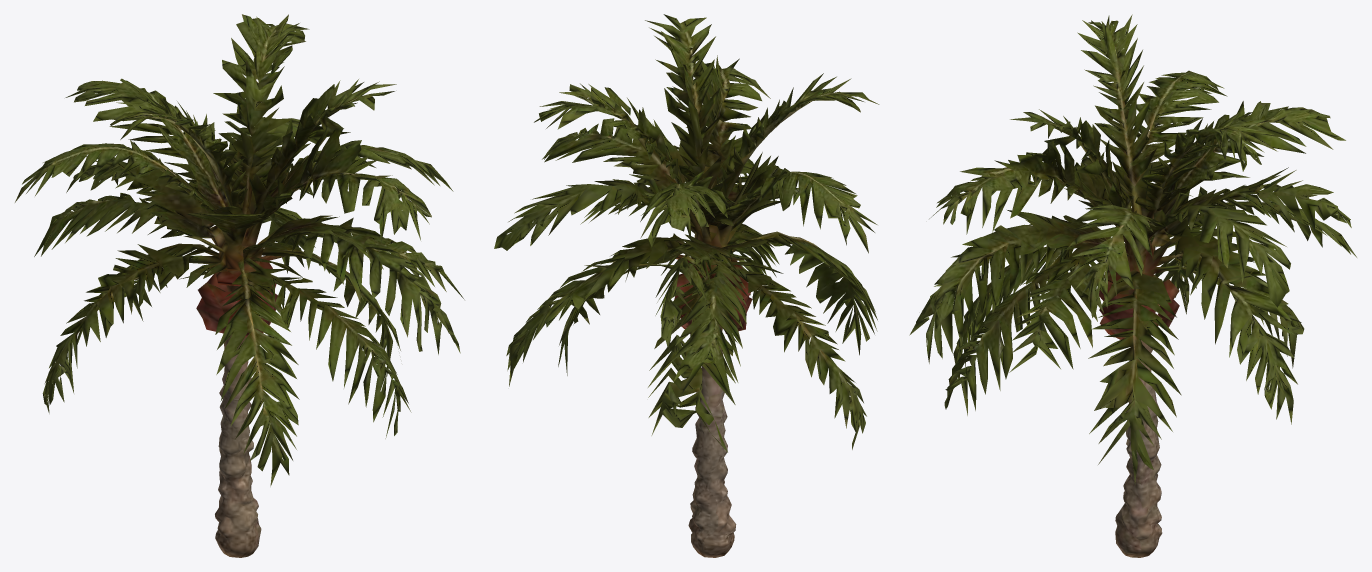
File: tree_palm_real-Cda6Ew8b.glb
3 renders of one model, left to right at view 1: azimuth 30°, elevation 25°; view 2: azimuth 150°, elevation 25°; view 3: azimuth 270°, elevation 25°, orthographic.
Visible parts, largest first — view 1: tripo_node_a45b11de-fdbb-4221-9392-93938aba6b27; view 2: tripo_node_a45b11de-fdbb-4221-9392-93938aba6b27; view 3: tripo_node_a45b11de-fdbb-4221-9392-93938aba6b27.
Boxes of the visible parts, left/top/right/bottom form: tripo_node_a45b11de-fdbb-4221-9392-93938aba6b27: left=15, top=14, right=464, bottom=557; tripo_node_a45b11de-fdbb-4221-9392-93938aba6b27: left=494, top=14, right=879, bottom=557; tripo_node_a45b11de-fdbb-4221-9392-93938aba6b27: left=909, top=14, right=1356, bottom=557.
Size of the model in its own units: 0.8098 by 0.991 by 0.8302.
Materials: 1 (1 with a texture image).
